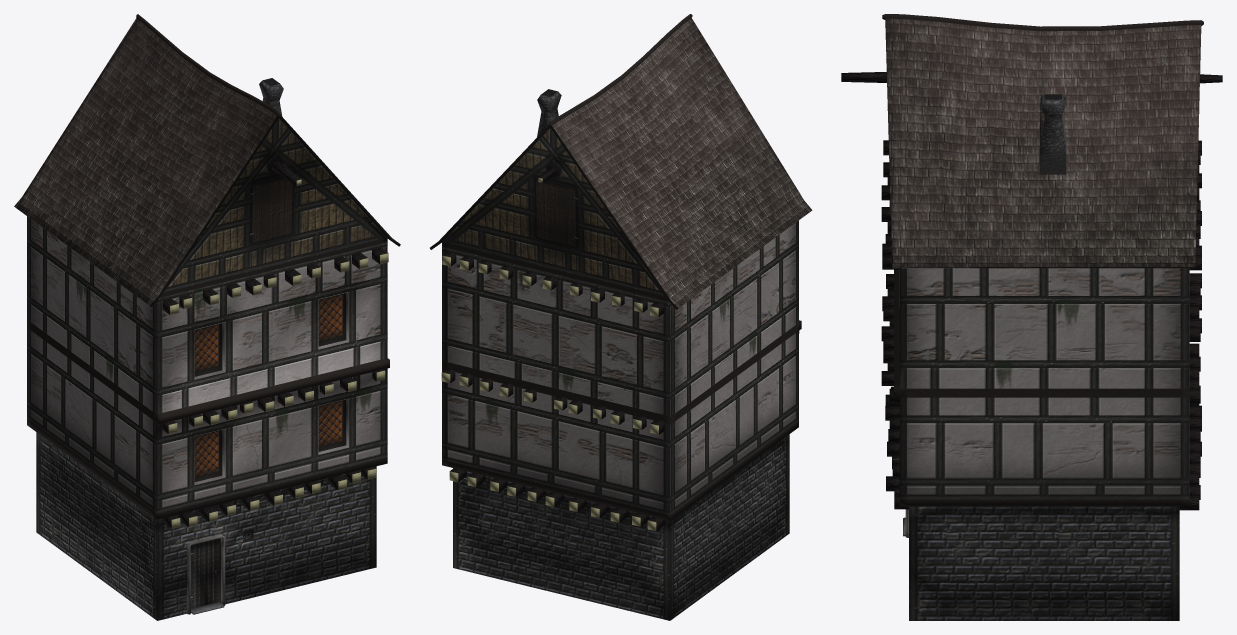
Rendered from housemedieval.obj.
The picture shows the model from 3 angles, left to right: view 1: azimuth 30°, elevation 25°; view 2: azimuth 150°, elevation 25°; view 3: azimuth 270°, elevation 25°; orthographic projection. The views are drawn at different scales.
Size of the model in its own units: 8.02 by 14.94 by 9.42.
